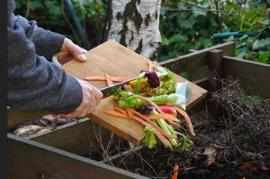organic: (148, 107, 180, 148), (13, 125, 47, 137), (159, 68, 175, 92), (141, 126, 158, 148), (133, 72, 147, 94), (147, 113, 181, 122), (143, 71, 160, 88), (251, 37, 270, 52), (109, 86, 124, 99), (137, 104, 153, 115), (158, 105, 177, 114), (41, 114, 58, 123), (119, 100, 132, 108), (257, 165, 269, 173), (186, 86, 191, 99), (140, 70, 148, 74)
